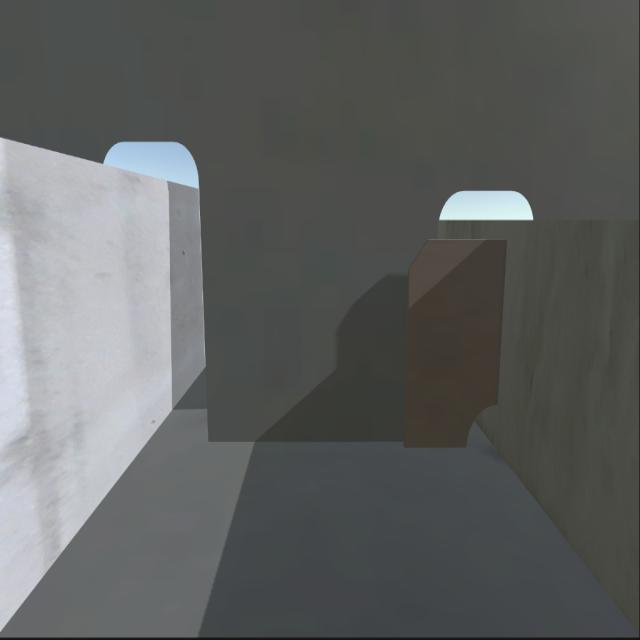fillet_hole: (463, 399, 502, 450)
fillet_yong_jeop_jang: (208, 431, 476, 453)
longi_yong_jeop_jang: (488, 243, 514, 406)
plate_CP03: (402, 238, 507, 450)
